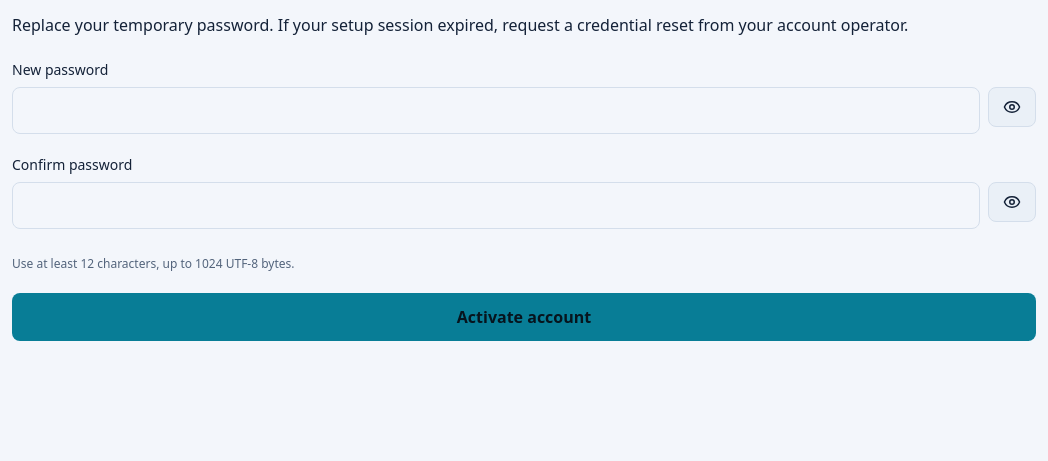
Test: interface › validates activation password confirmation
This screenshot has width=1048, height=461.
Step 1. Type "a secure password" into the password field labelled "New password" → (496, 111), box [12,87,980,134]
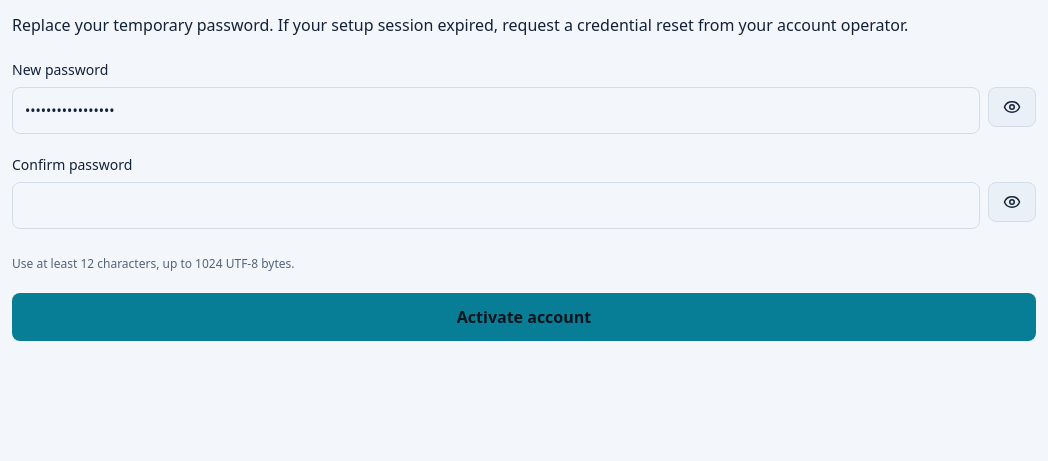
Step 2. Type "another password" into the password field labelled "Confirm password" → (496, 206), box [12,182,980,229]
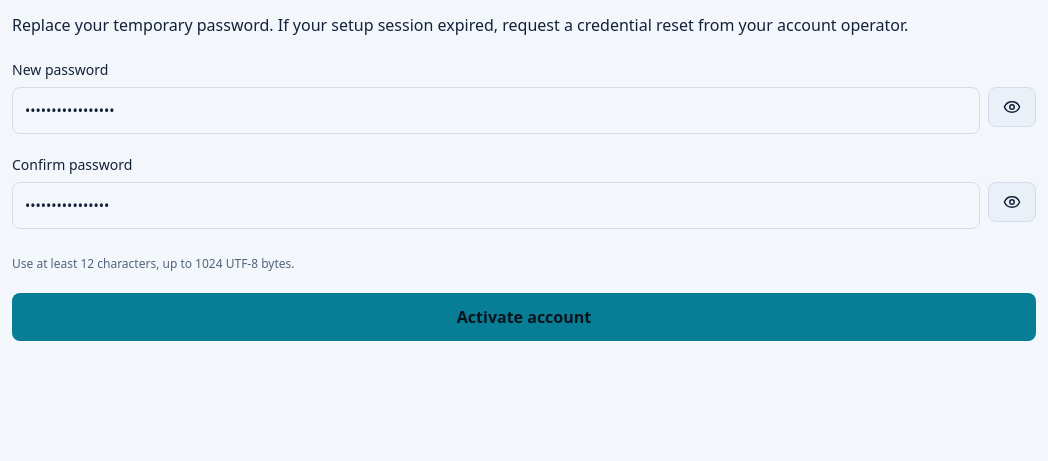
Step 3. Click the button "Activate account" → (524, 317), box [12,293,1036,341]
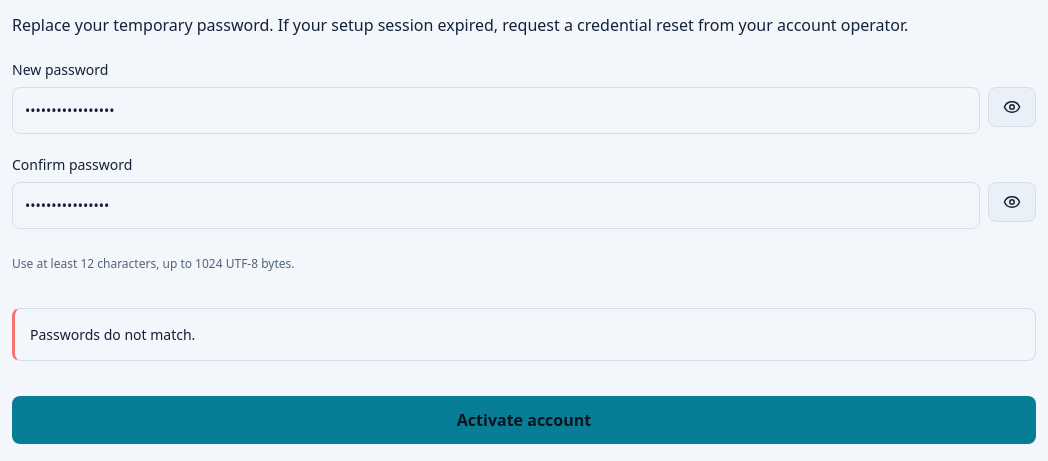
Expected: the message shows "Passwords do not match", [30,325,195,344]
